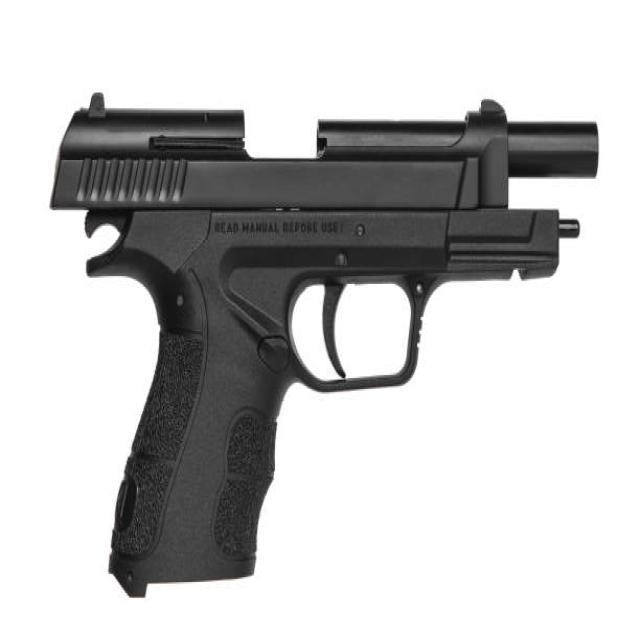pistol: (51, 85, 609, 612)
